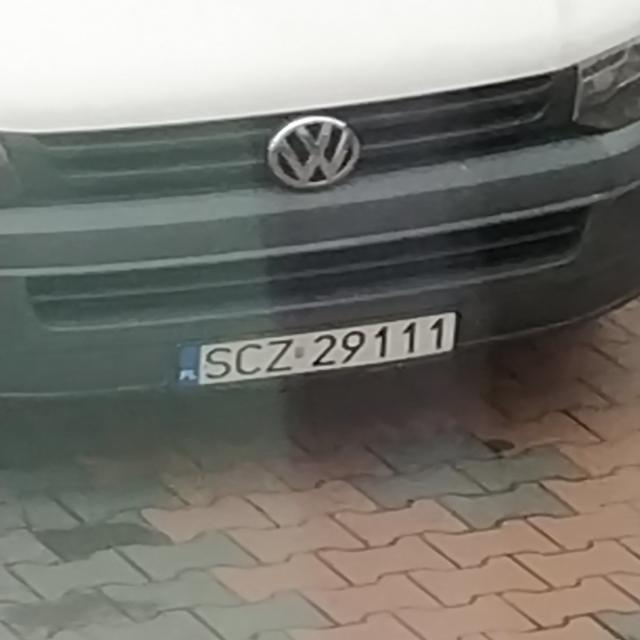pl_license_plate: (177, 312, 455, 386)
